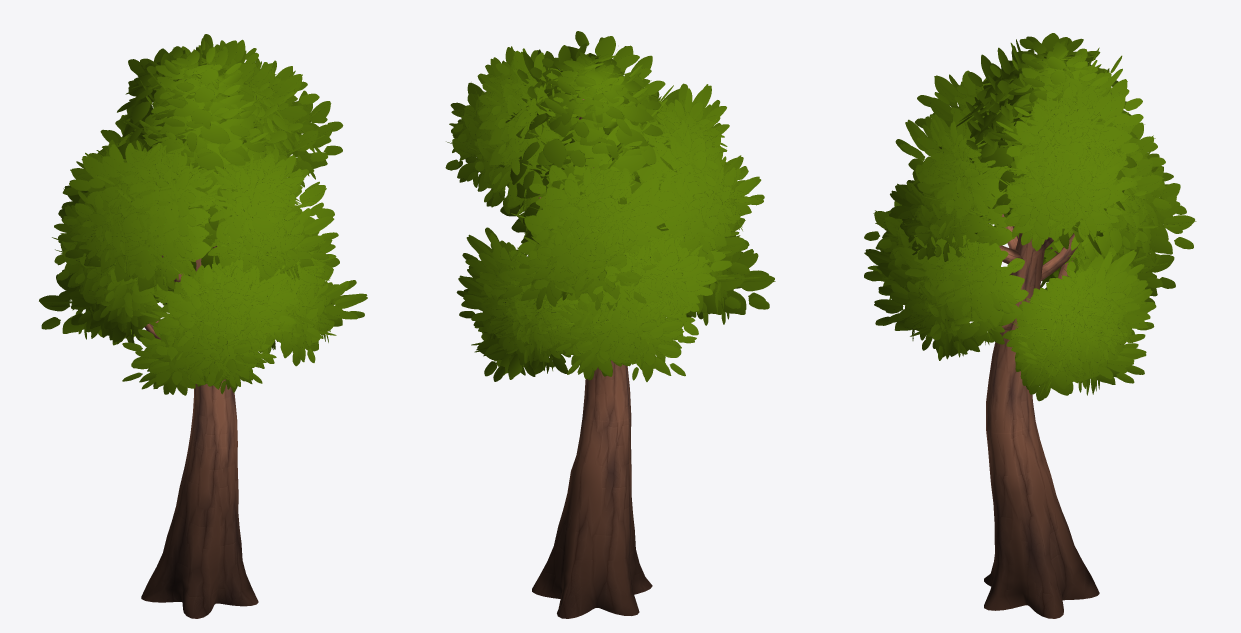
Rendered from CommonTree_1.gltf.
3 views of the same model, side by side, from view 1: azimuth 30°, elevation 25°; view 2: azimuth 150°, elevation 25°; view 3: azimuth 270°, elevation 25° (orthographic). The views are drawn at different scales.
Visible parts, largest first — view 1: CommonTree_1; view 2: CommonTree_1; view 3: CommonTree_1.
Part boxes in pixels (bbox=[...]): CommonTree_1: bbox=[39, 34, 367, 618]; CommonTree_1: bbox=[445, 31, 775, 618]; CommonTree_1: bbox=[864, 33, 1196, 618].
Bounding box in the file's own units: 4.31 × 7.26 × 4.58.
Materials: 2 (2 with a texture image).
